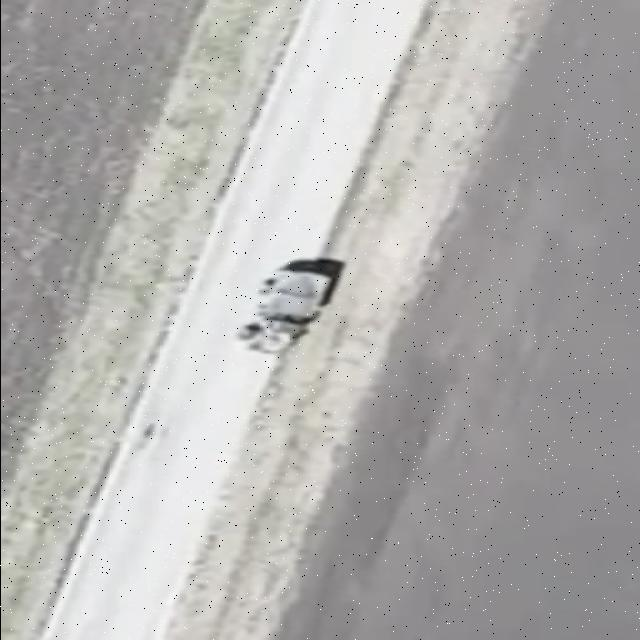TRUCK: (233, 268, 339, 358)
